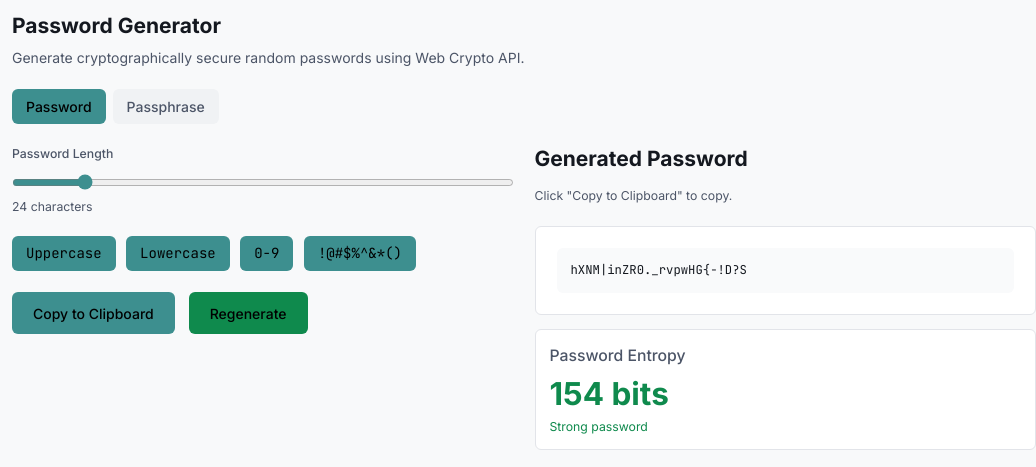
Test: PasswordGenerator › displays error when all character pools are disabled
The image size is (1036, 467).
# Uncheck all character pools
Click the button "Uppercase": (64, 254) [12,236,116,271]
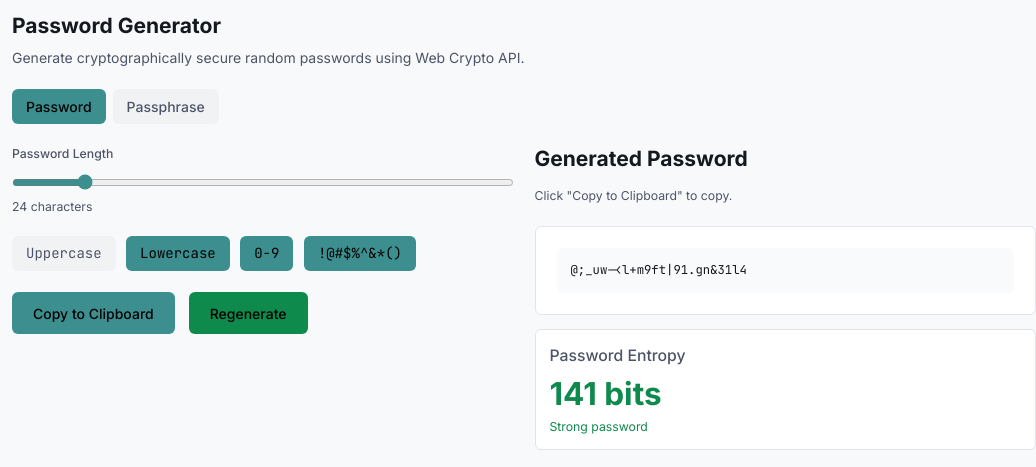
Click the button "Lowercase": (178, 254) [126,236,230,271]
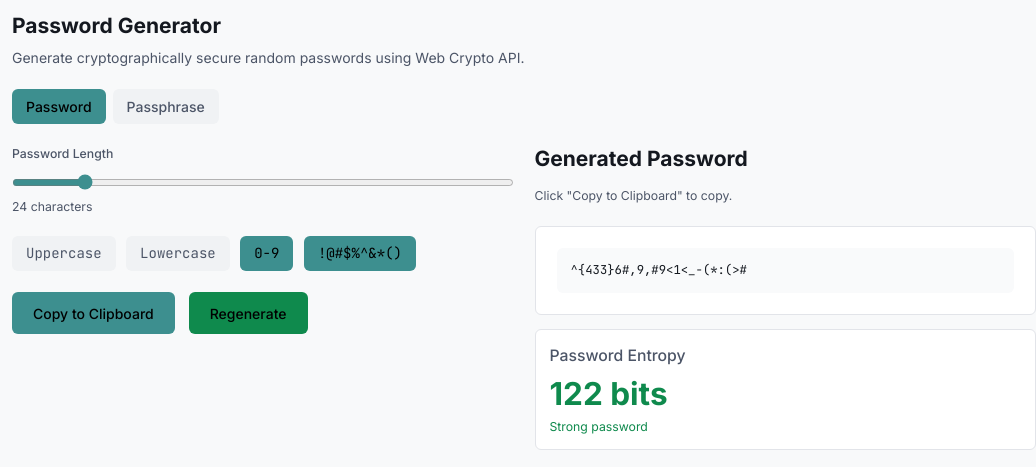
Click the button "0-9": (267, 254) [240,236,293,271]
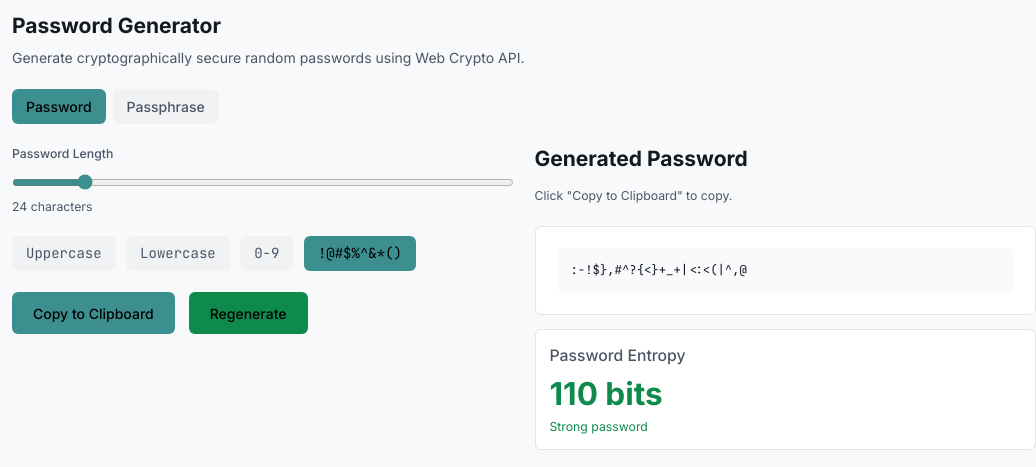
Click the button "!@#$%^&*()": (360, 254) [304,236,416,271]
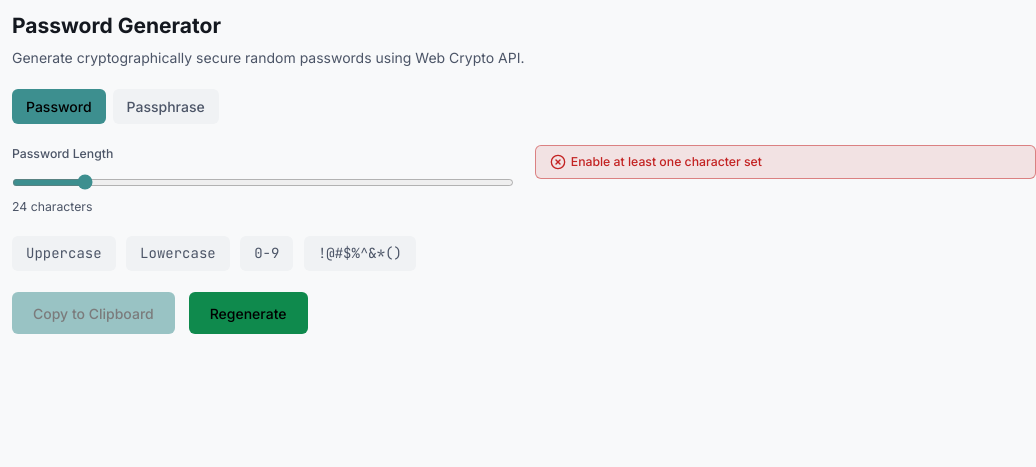
Check: the text "Enable at least one character set" is shown, box [571,153,762,170]
